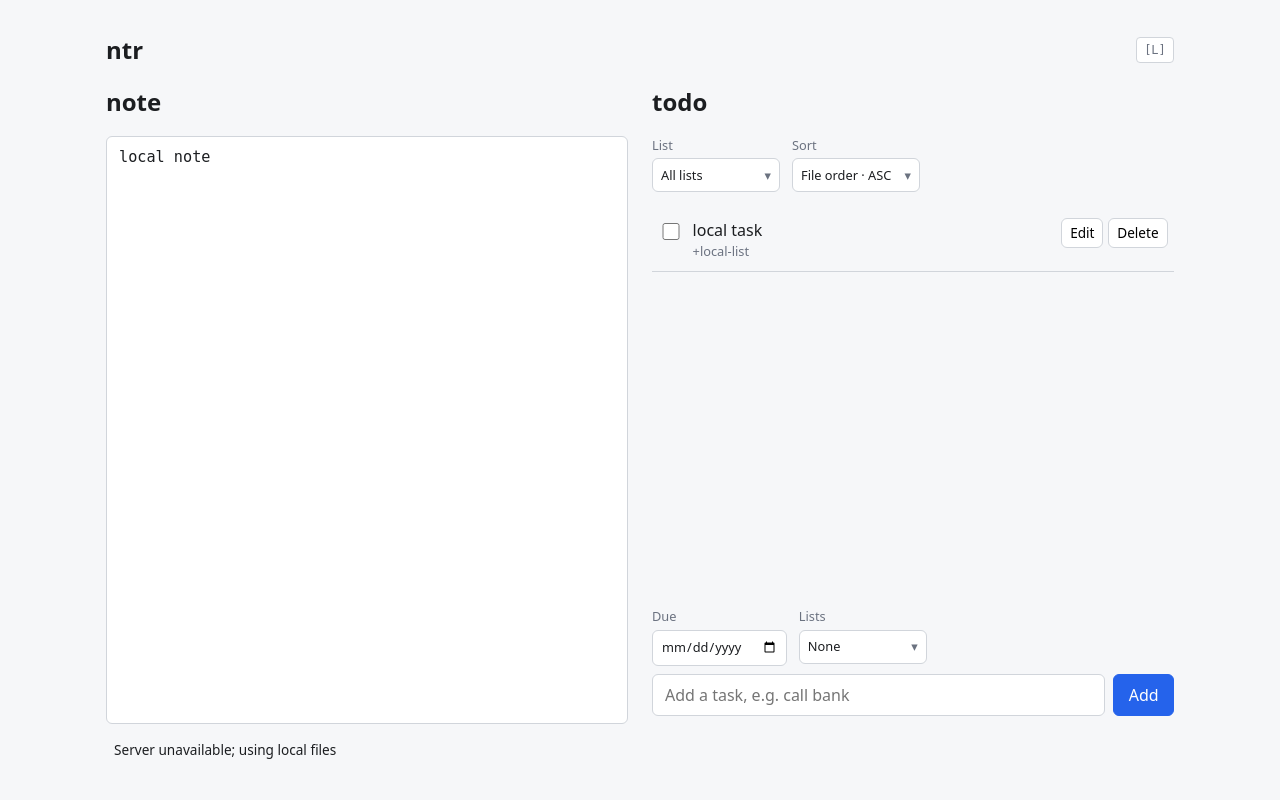
Test: shows local tasks, note, labels, and mode instead of the label-only error (ask)
Expected: the list with id "tasks" shows "local task", [693,219,762,241]
Expected: the field with id "note-input" reads "local note", [106,136,628,724]
Click the button with aria-label "List filter".
click(716, 175)  # box [652,158,780,192]
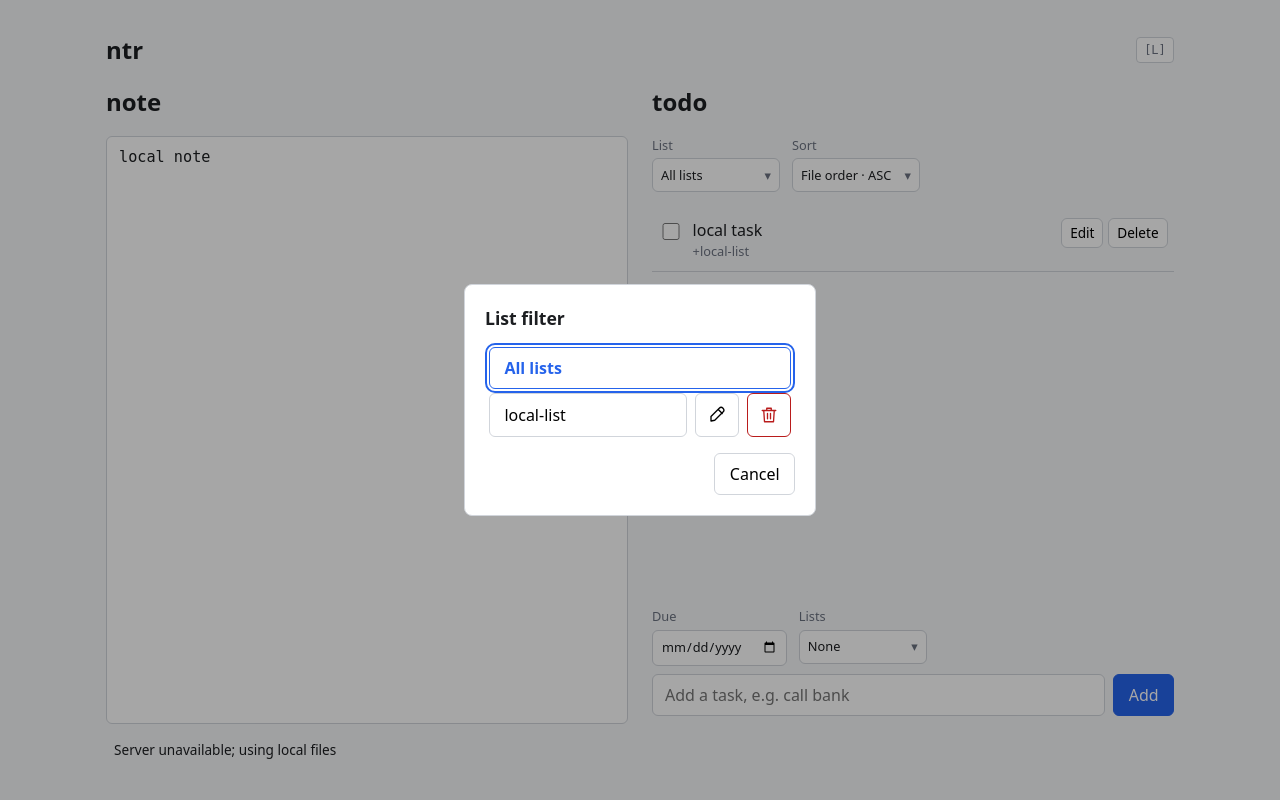
Now the button "local-list" is shown, box [489,393,687,437]
